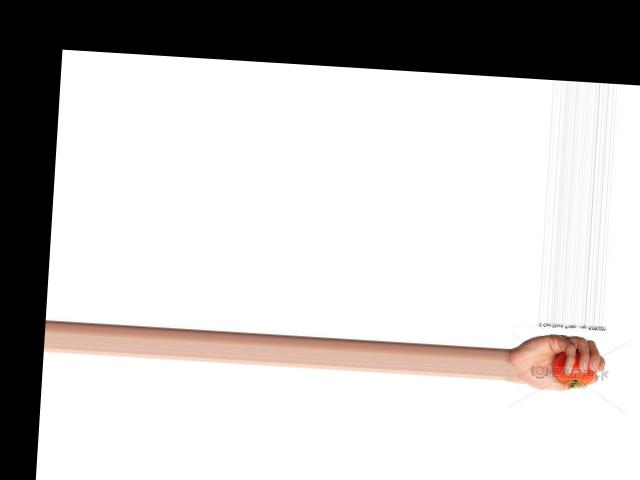tomato: (553, 348, 597, 388)
